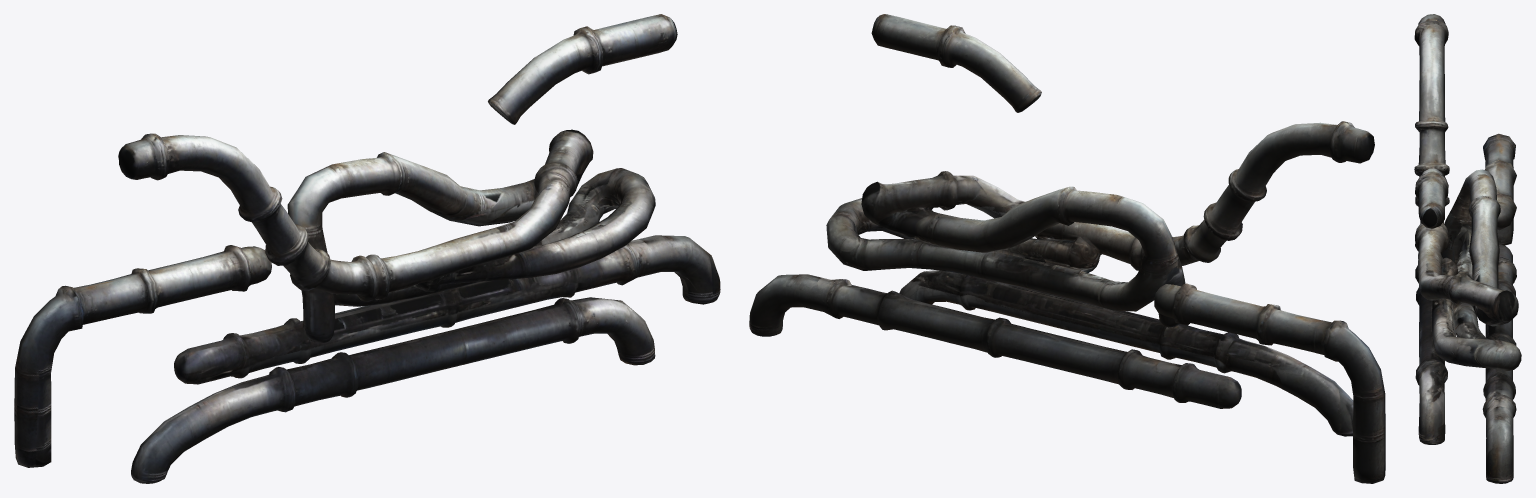
The model's file is Creepy_old_shining_pi_0124161515_texture.fbx.
3 views of the same model, side by side, from view 1: azimuth 30°, elevation 25°; view 2: azimuth 150°, elevation 25°; view 3: azimuth 270°, elevation 25° (orthographic). The views are drawn at different scales.
Parts seen in each view (by area): view 1: Mesh1_Mesh1.004; view 2: Mesh1_Mesh1.004; view 3: Mesh1_Mesh1.004.
Part boxes in pixels (x1,y1,x2,y2): Mesh1_Mesh1.004: (14,14,720,483); Mesh1_Mesh1.004: (749,14,1385,483); Mesh1_Mesh1.004: (1414,14,1521,483).
Size of the model in its own units: 2151 by 1000 by 389.
1 material, 1 textured.
